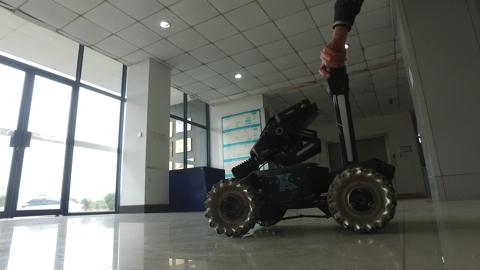chariot: (197, 52, 407, 241)
